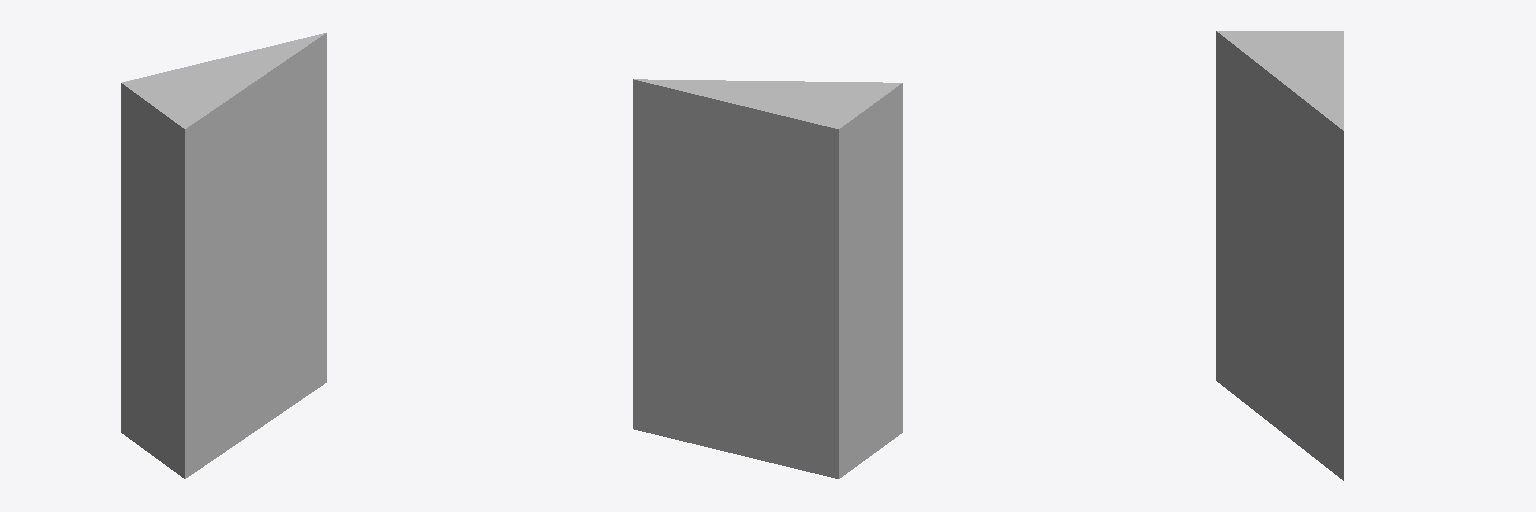
Rendered from ramp.obj.
3 renders of one model, left to right at view 1: azimuth 30°, elevation 25°; view 2: azimuth 150°, elevation 25°; view 3: azimuth 270°, elevation 25°, orthographic.
Parts seen in each view (by area): view 1: obj1; view 2: obj1; view 3: obj1.
Part boxes in pixels (bbox=[...]): obj1: bbox=[121, 33, 326, 478]; obj1: bbox=[633, 79, 902, 478]; obj1: bbox=[1216, 31, 1343, 480].
Size of the model in its own units: 3.72 by 6.04 by 2.